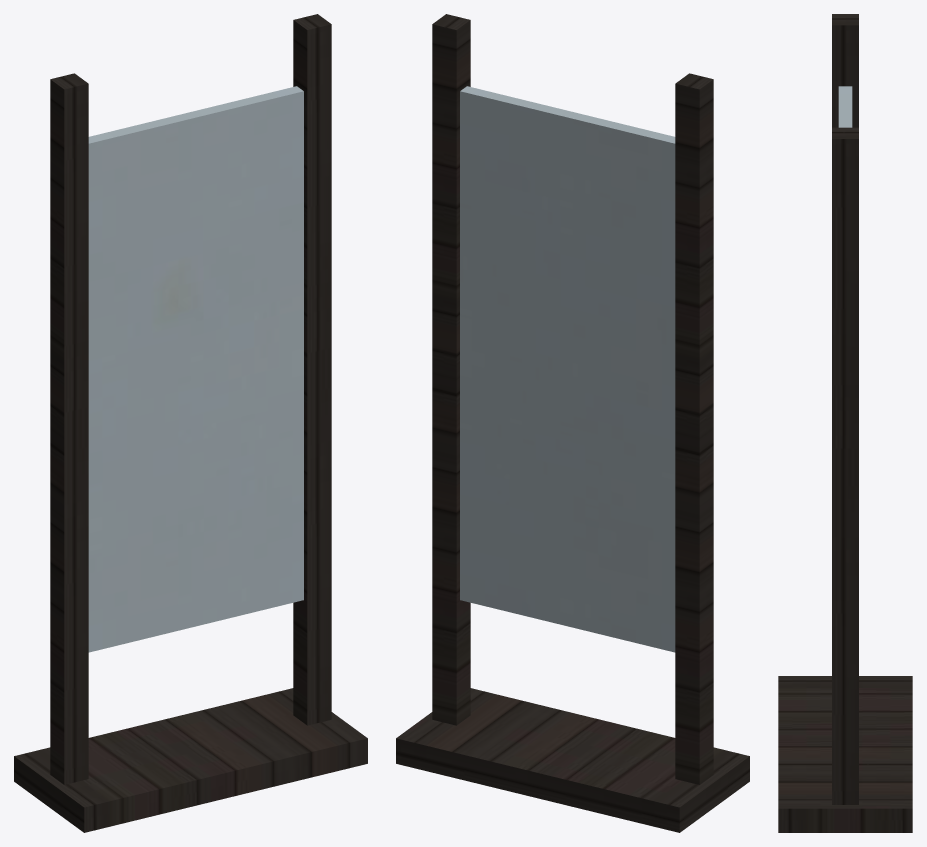
File: mirror_stand_01.glb
3 views of the same model, side by side, from view 1: azimuth 30°, elevation 25°; view 2: azimuth 150°, elevation 25°; view 3: azimuth 270°, elevation 25° (orthographic). The views are drawn at different scales.
Visible parts, largest first — view 1: mirror_stand_01; view 2: mirror_stand_01; view 3: mirror_stand_01.
Part boxes in pixels (x1=…): mirror_stand_01: x1=14, y1=14, x2=367, y2=832; mirror_stand_01: x1=396, y1=14, x2=749, y2=832; mirror_stand_01: x1=778, y1=14, x2=912, y2=832.
Bounding box in the file's own units: 0.7 × 1.7 × 0.3.
Materials: 2 (2 with a texture image).
